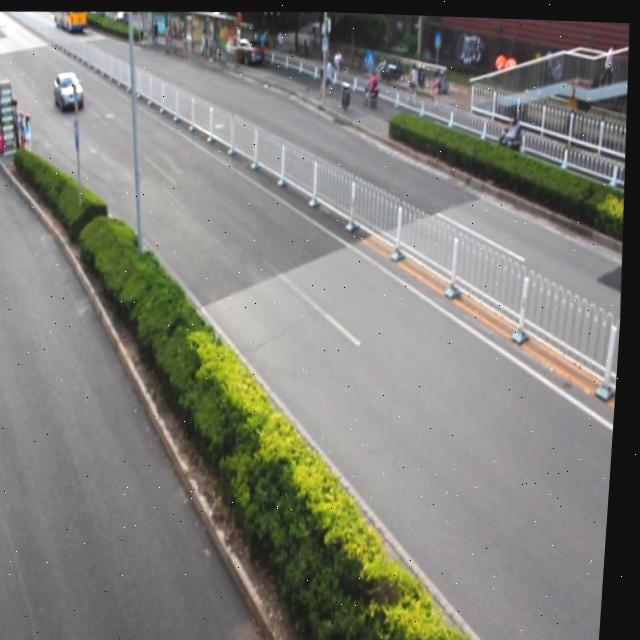car: (53, 71, 86, 110), (231, 31, 265, 67)
